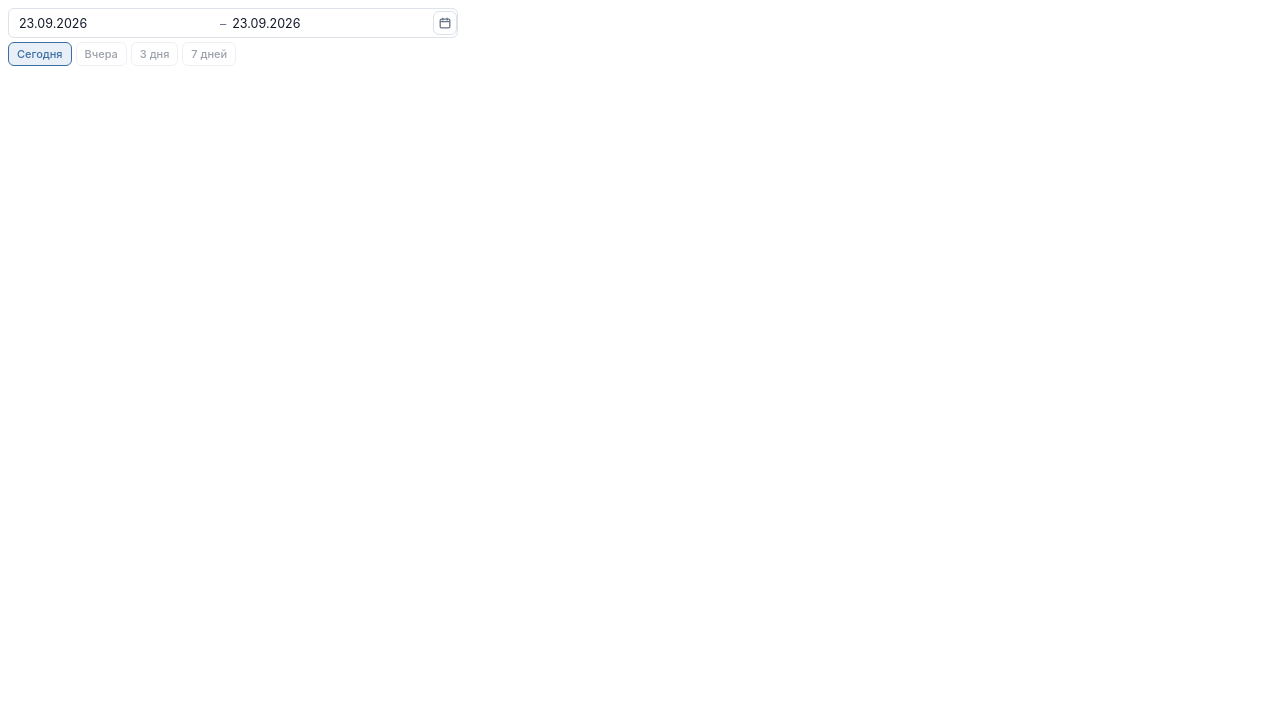
Scenario: DateRange › горячие кнопки и пресеты вне min/max недоступны, совпавший пресет отмечен
The width and height of the screenshot is (1280, 720).
expect the button "Сегодня" is enabled: met, box [8, 42, 72, 66]
expect the button "Вчера" is disabled: met, box [76, 42, 127, 66]
Click the button named "Выбрать период" at (445, 23), box [433, 11, 457, 35]
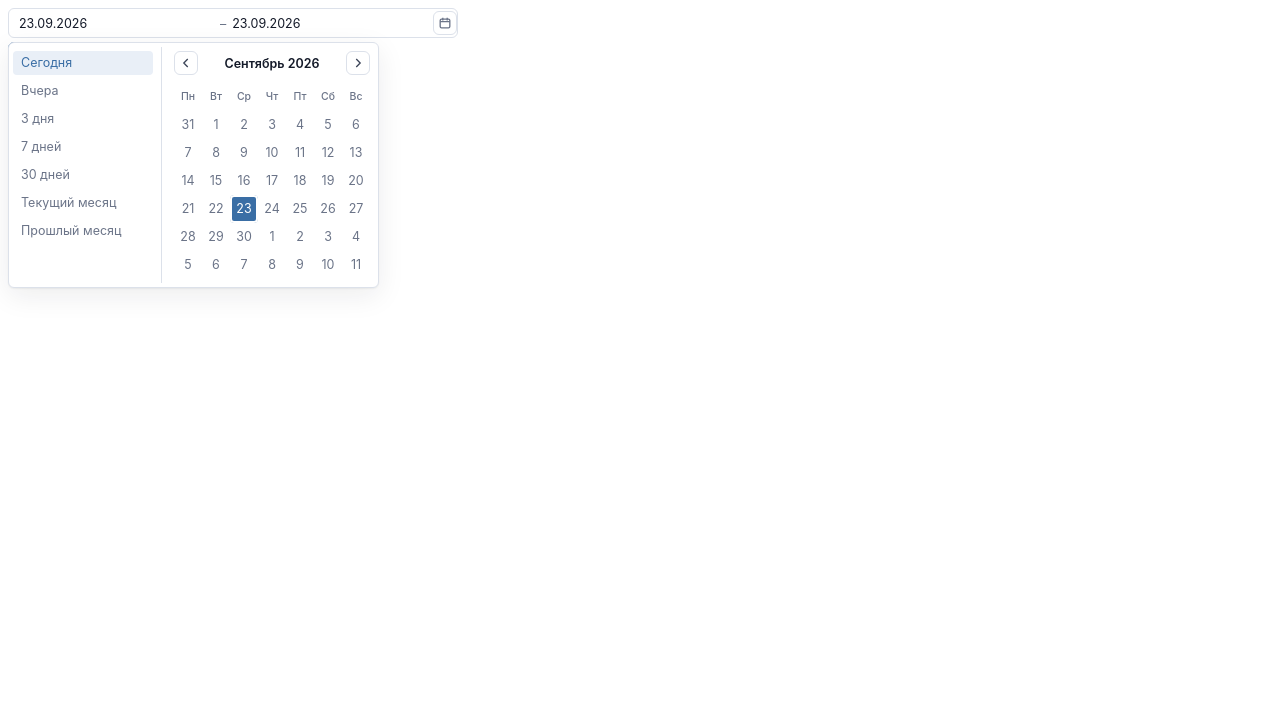
expect the button "7 дней" is disabled: met, box [13, 135, 153, 159]
expect the button "Прошлый месяц" is disabled: met, box [13, 219, 153, 243]
expect the button "Сегодня" is enabled: met, box [13, 51, 153, 75]
